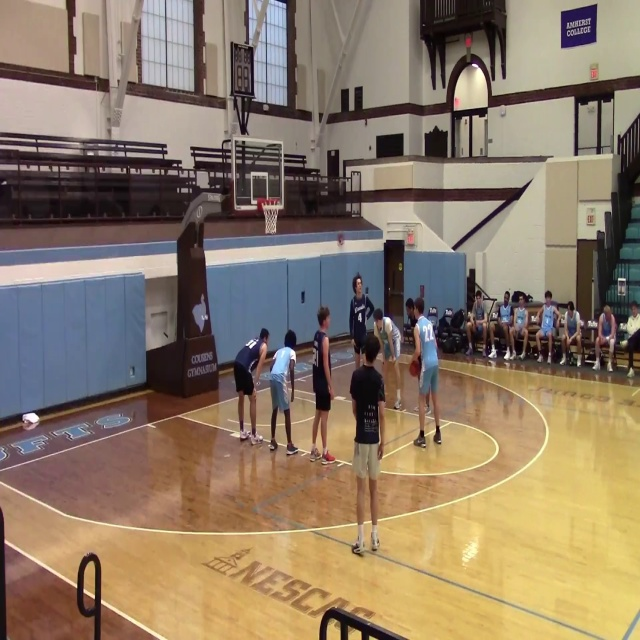Basketball: (22, 412, 39, 429), (409, 360, 420, 377)
